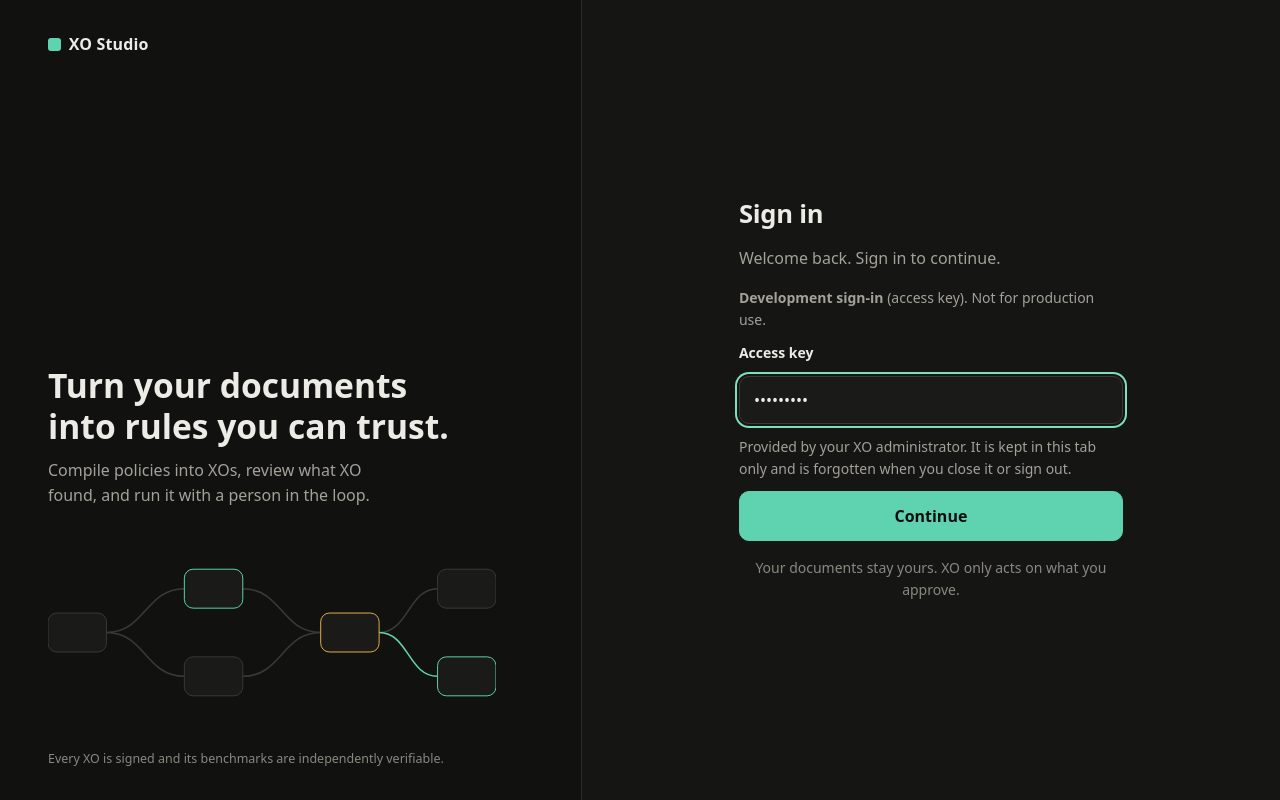
Test case: emergency stops › a person who cannot manage the workspace sees the stops but cannot change them
Earlier steps of the test are not shown.
Click the button "Continue". click: (931, 516)
box: x1=739 y1=491 x2=1123 y2=541
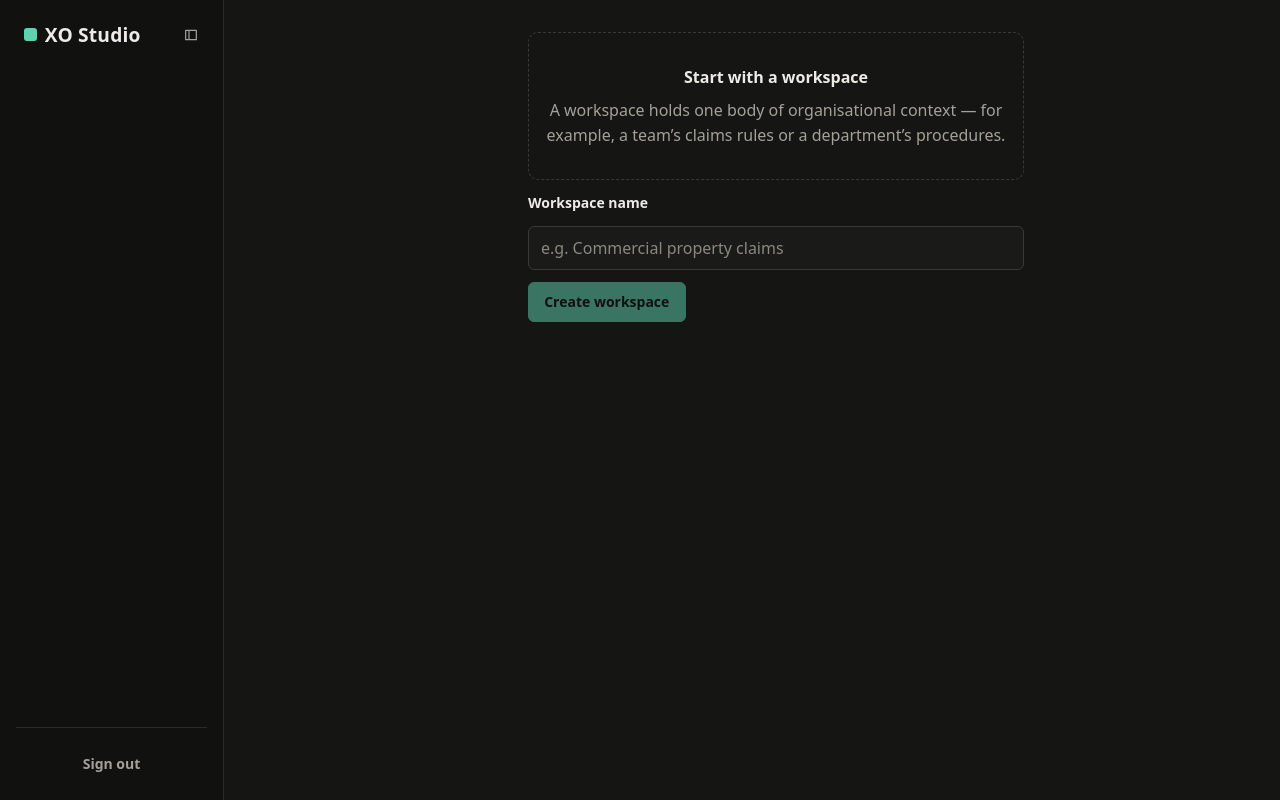
Type "Ops" into the field labelled "Workspace name". click: (776, 248)
box: x1=528 y1=226 x2=1024 y2=270
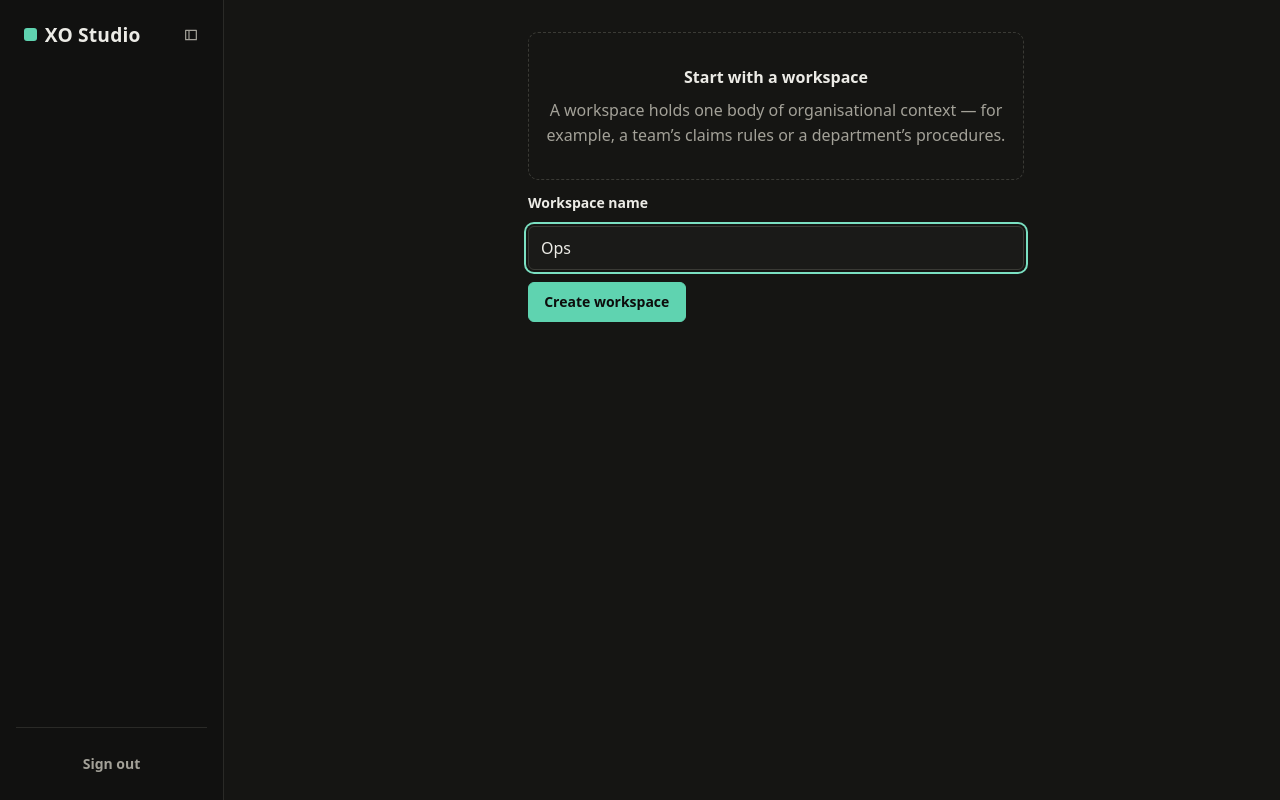
Click the button "Create workspace". click: (607, 302)
box: x1=528 y1=282 x2=686 y2=322
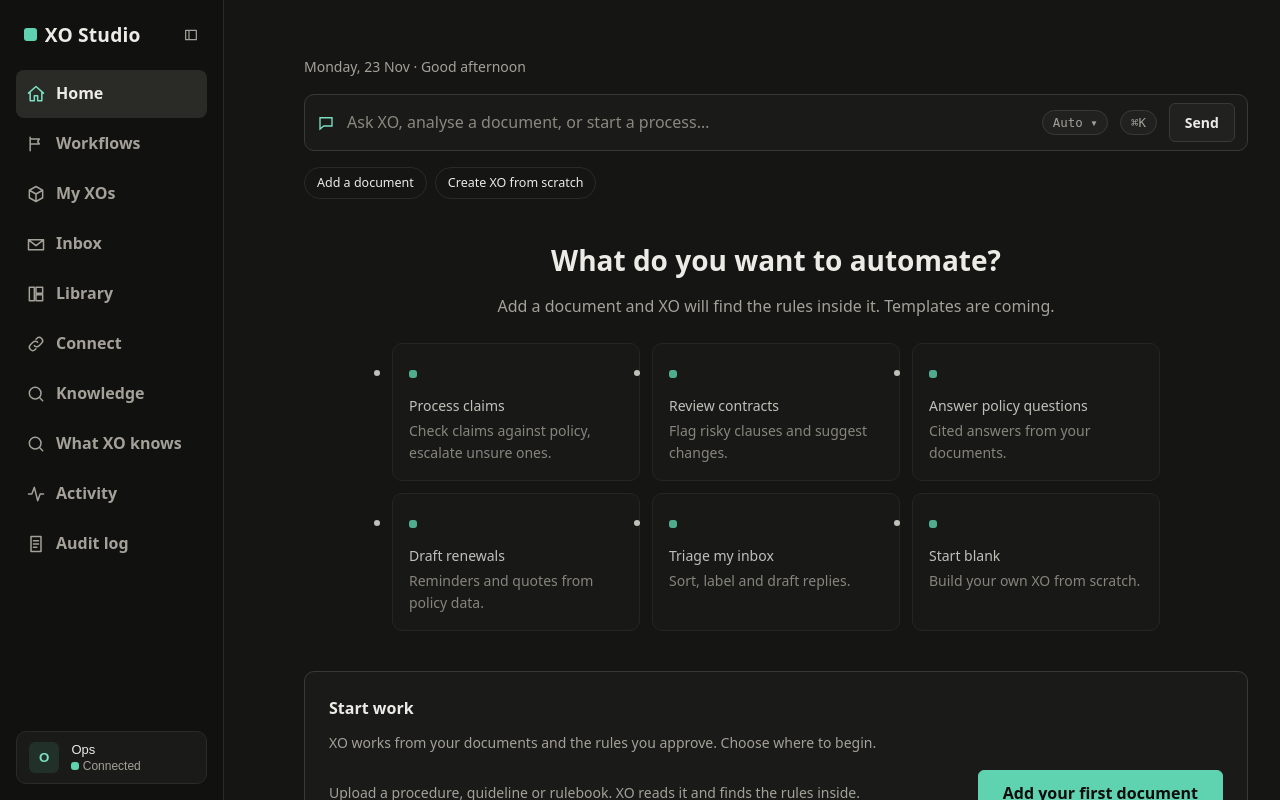
Click the button with aria-label "Workspace menu". click: (112, 758)
box: x1=16 y1=731 x2=207 y2=784
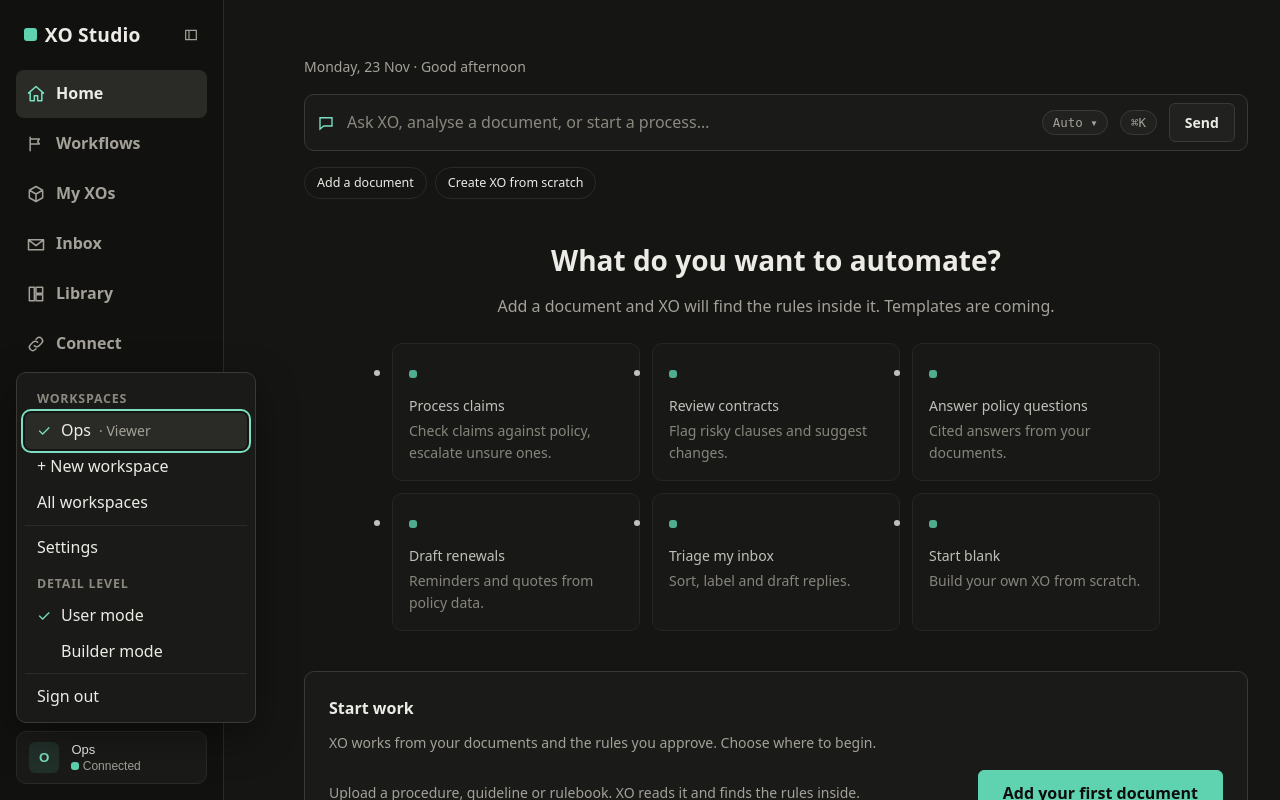
Click the menu item "Settings". click: (136, 548)
box: x1=25 y1=530 x2=247 y2=566
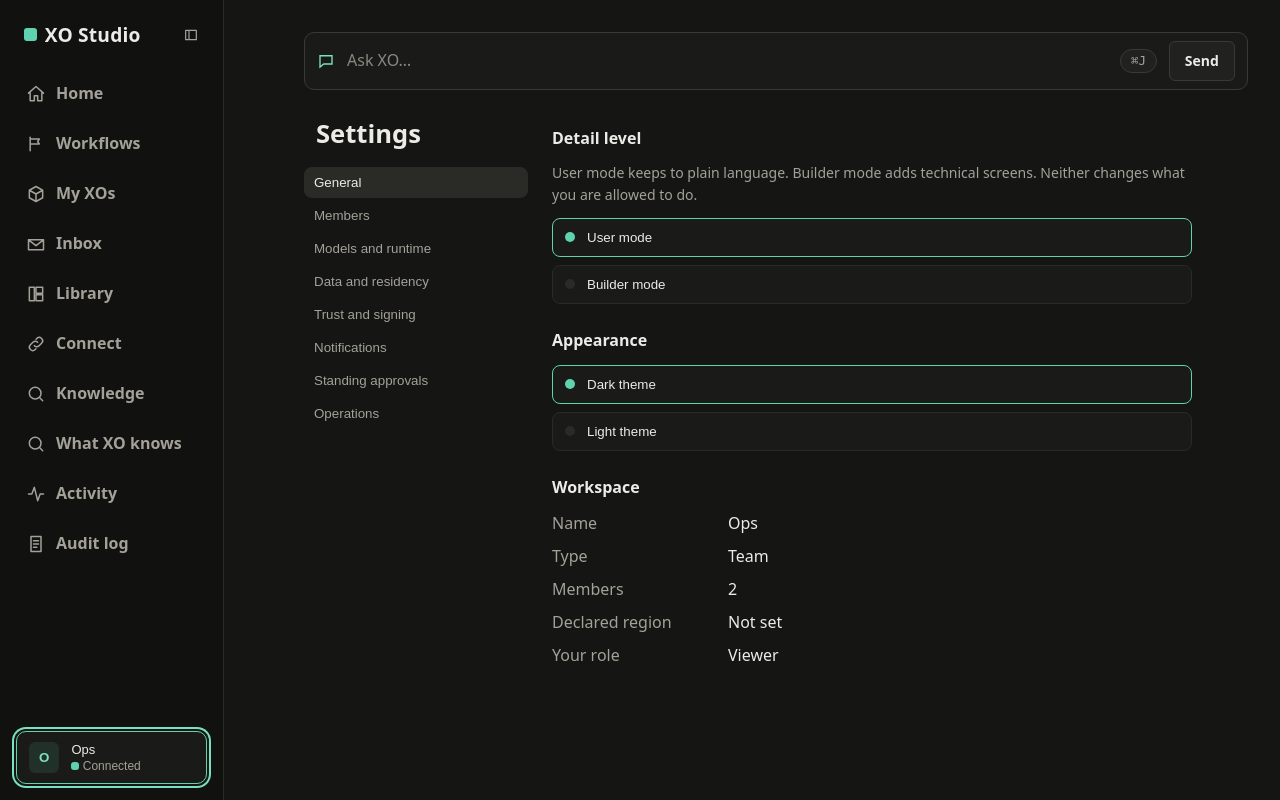
Click the tab "Operations". click: (416, 414)
box: x1=304 y1=398 x2=528 y2=429
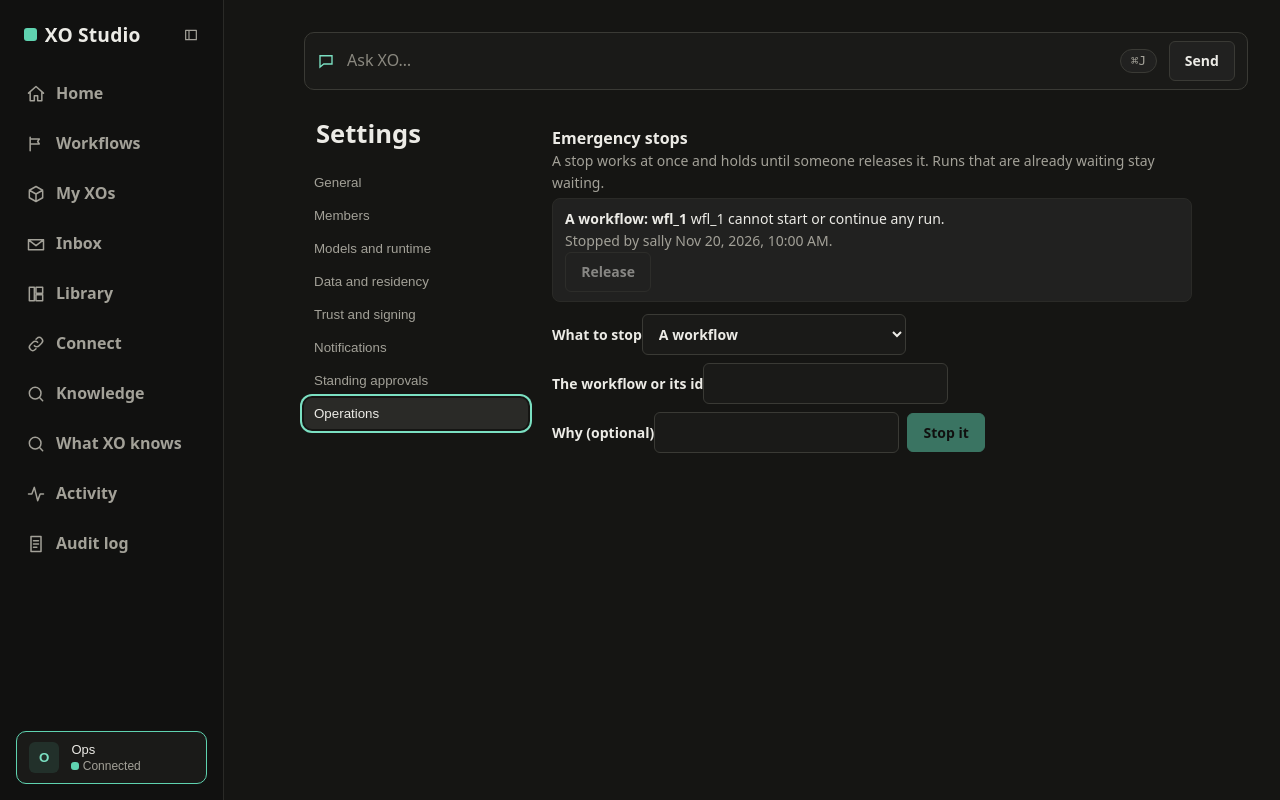
Expected: the button "Release" is disabled, x1=565 y1=252 x2=651 y2=292
Expected: the button "Stop it" is disabled, x1=907 y1=413 x2=985 y2=452
